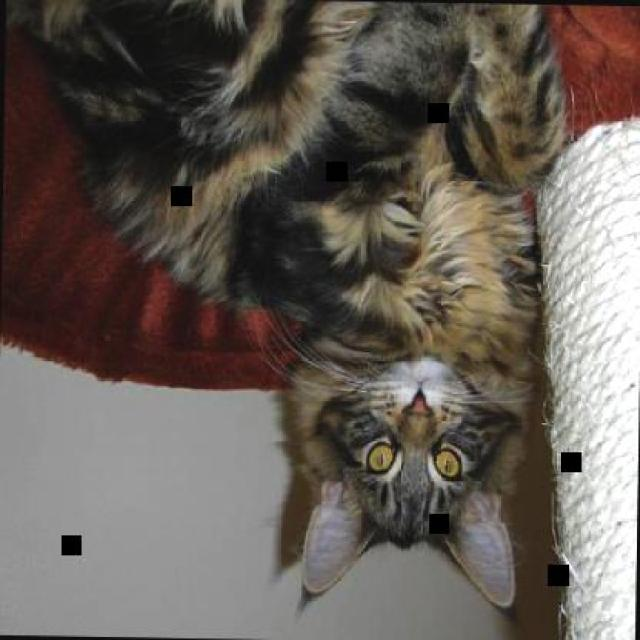cat: (0, 0, 571, 611)
